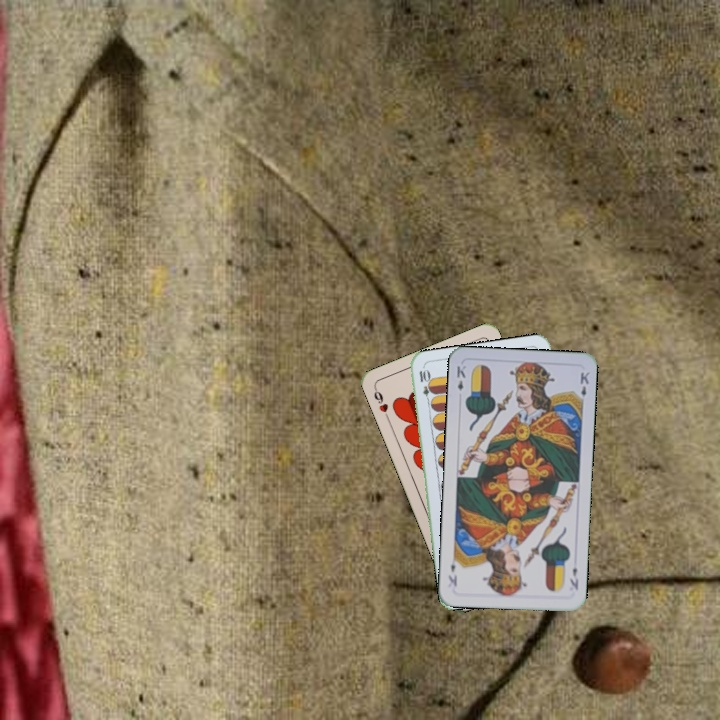E10: (415, 366, 433, 406)
EK: (452, 361, 468, 393), (566, 563, 581, 592)
H9: (370, 384, 392, 423)
